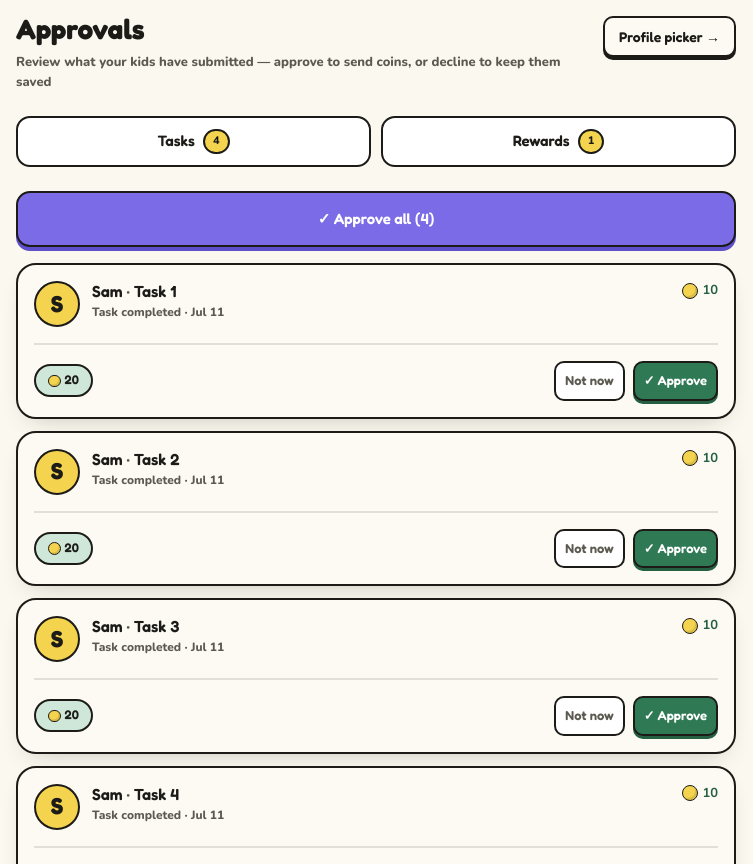
Scenario: ParentApprovalsPage › shows Approve all when a tab has more than 3 pending and approves them all
Expected: the tab "Tasks 4" is shown, [16, 116, 371, 166]
Click the button "✓ Approve all (4)". click: (376, 219)
box: [16, 190, 736, 247]
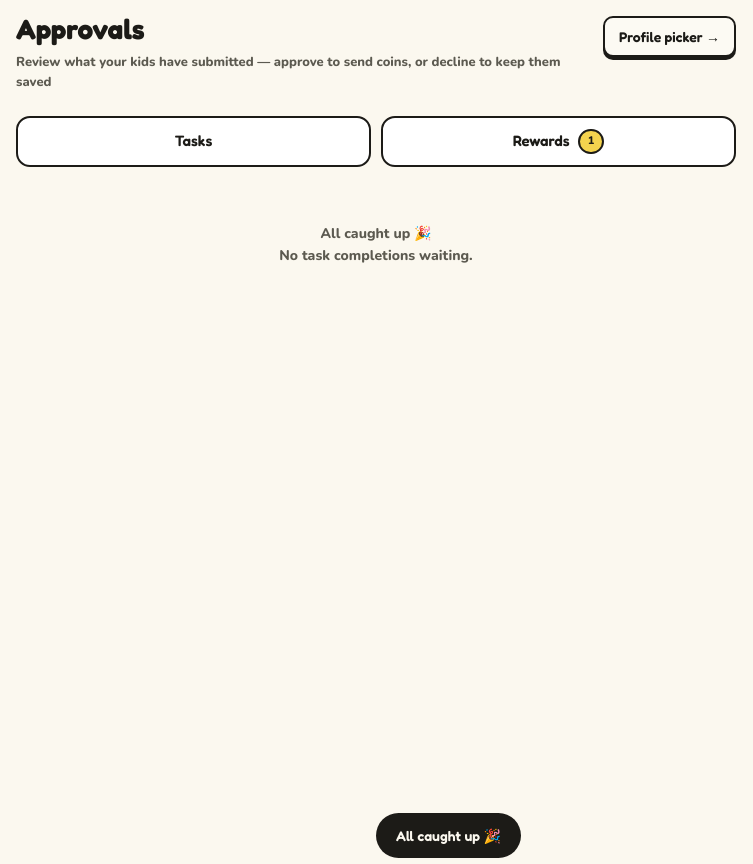
Expected: the text "Task 1" is gone
